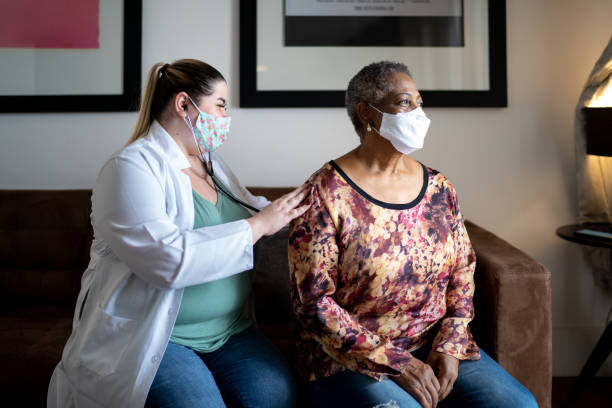with mask: (156, 45, 233, 157), (354, 54, 431, 166)
